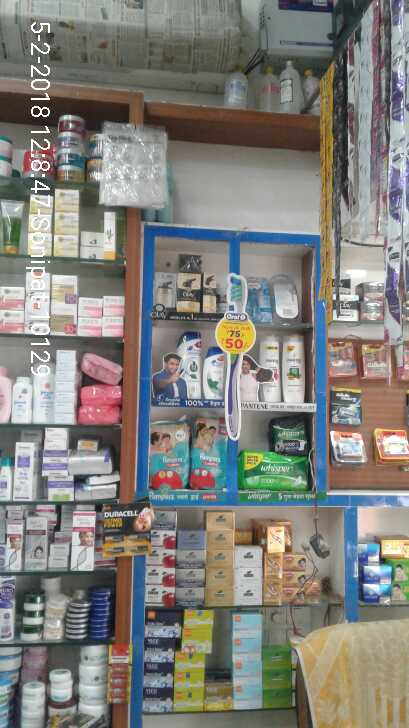gillete: (331, 430, 366, 467), (374, 429, 409, 463), (361, 344, 390, 382), (332, 386, 361, 422), (328, 343, 357, 377)
venus: (276, 277, 302, 322), (250, 279, 276, 322)
